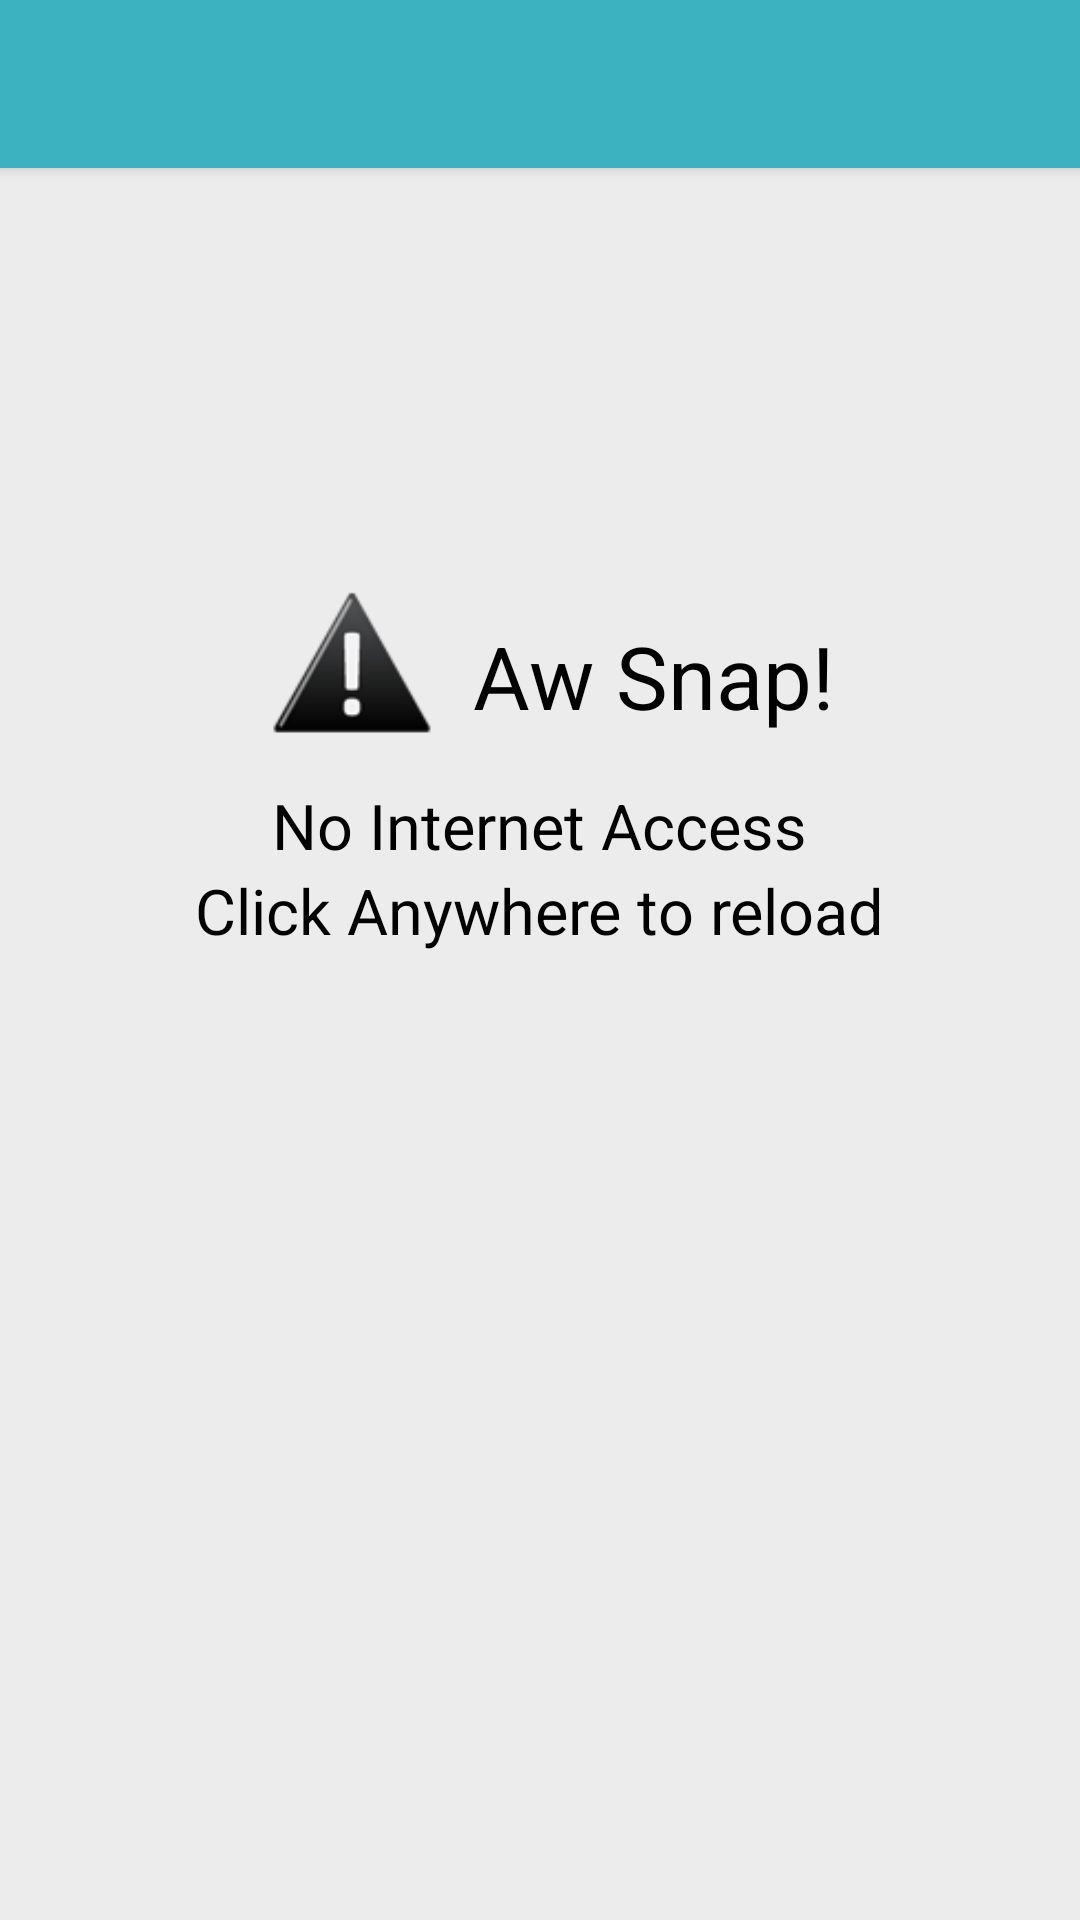

Icons on this 1080px x 1920px Android screen, each with the point to tap as [x,y]:
error: [352,663]
